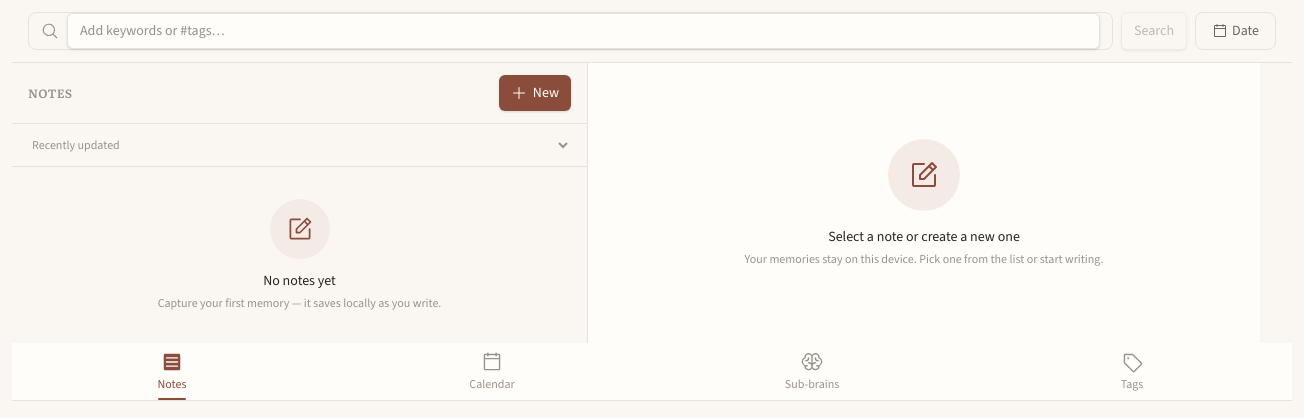
user flows (integration) › shows sub-brains pane from unified bottom nav
Click the button "Sub-brains".
click(812, 372)  # box [652,343,972,400]
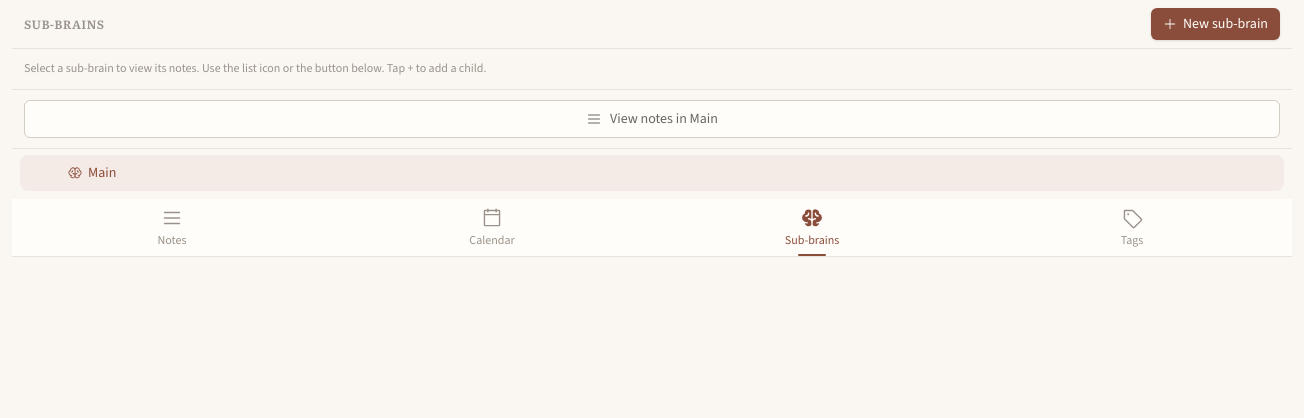
Now the text "Main" is shown, box [88,162,116,182]
Now the button "Main" is shown, box [52,154,1148,190]
